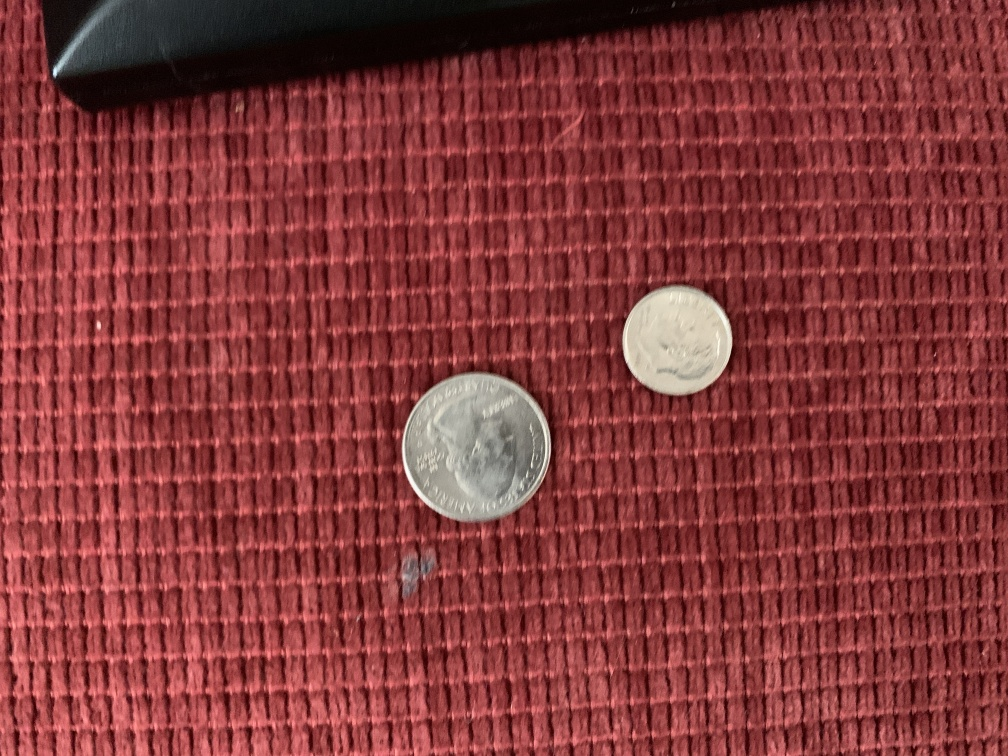dime: (618, 281, 738, 401)
quarter: (397, 367, 557, 528)
